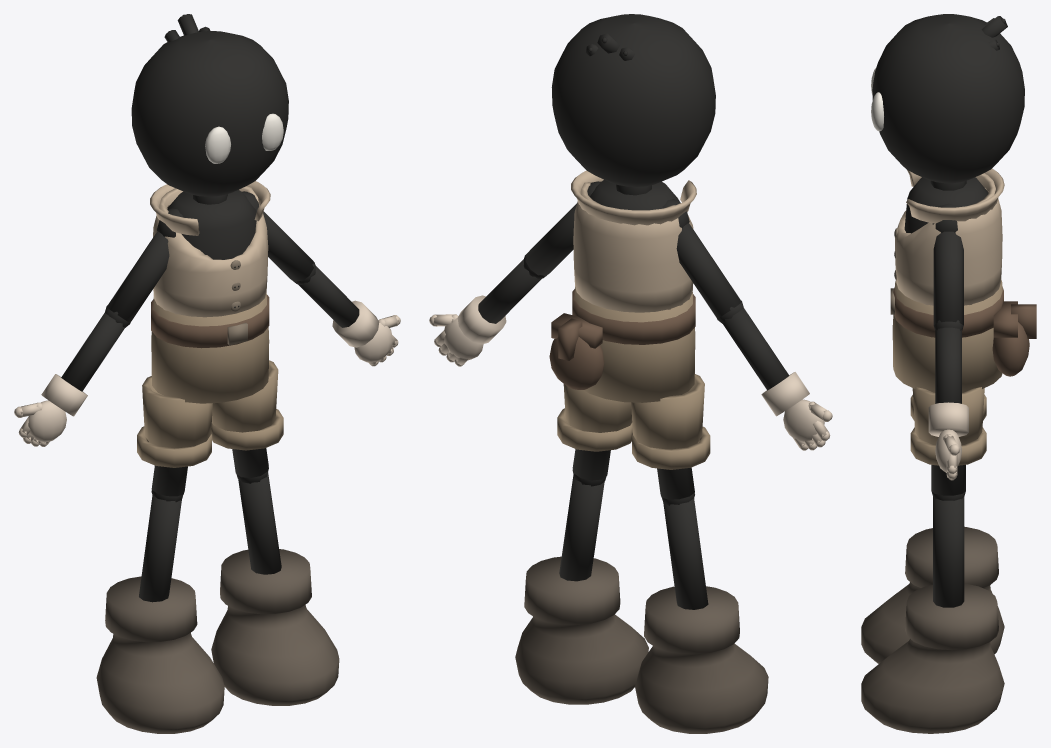
The model's file is traveler_body_rig.glb.
3 renders of one model, left to right at view 1: azimuth 30°, elevation 25°; view 2: azimuth 150°, elevation 25°; view 3: azimuth 270°, elevation 25°, orthographic. The views are drawn at different scales.
Parts seen in each view (by area): view 1: TravelerBody; view 2: TravelerBody; view 3: TravelerBody.
Part boxes in pixels (x1,y1,x2,y2): TravelerBody: [14, 14, 400, 733]; TravelerBody: [429, 14, 832, 733]; TravelerBody: [861, 14, 1036, 733].
Bounding box in the file's own units: 0.8032 × 1.32 × 0.313.
